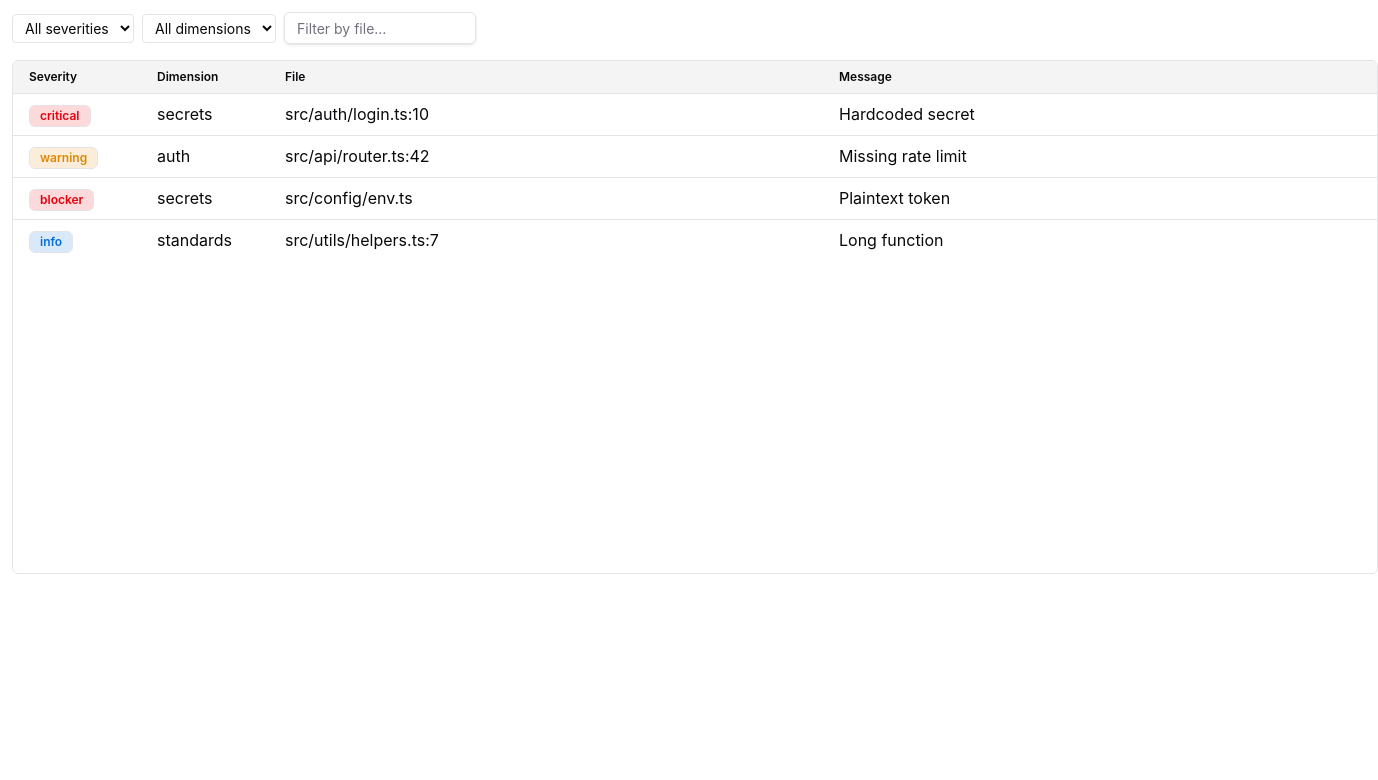
Test case: FindingsTable › filters by severity
Select "critical" in the dropdown named "severity" at (73, 28), box top-left (12, 14), bottom-right (134, 42)
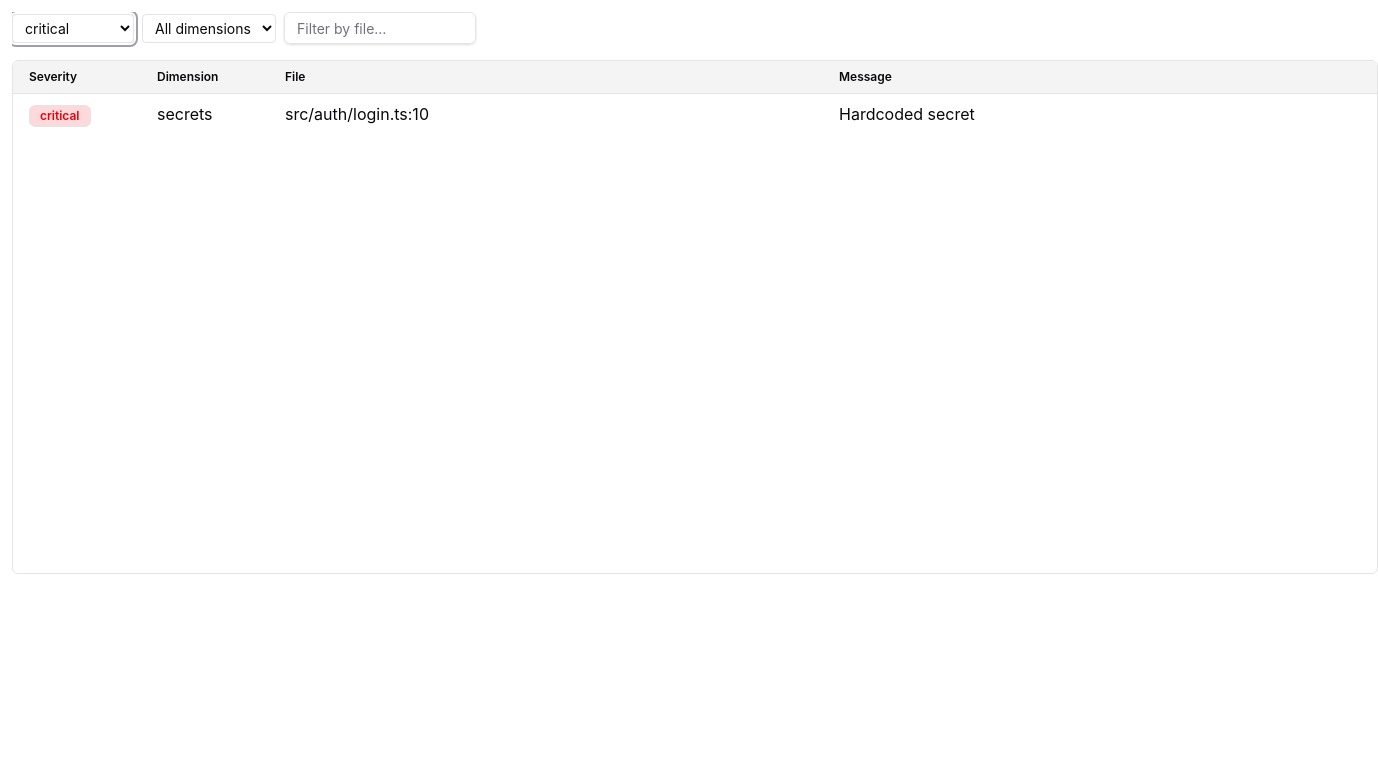
Expected: the text "Missing rate limit" is gone
Expected: the text "Plaintext token" is gone
Expected: the text "Long function" is gone
